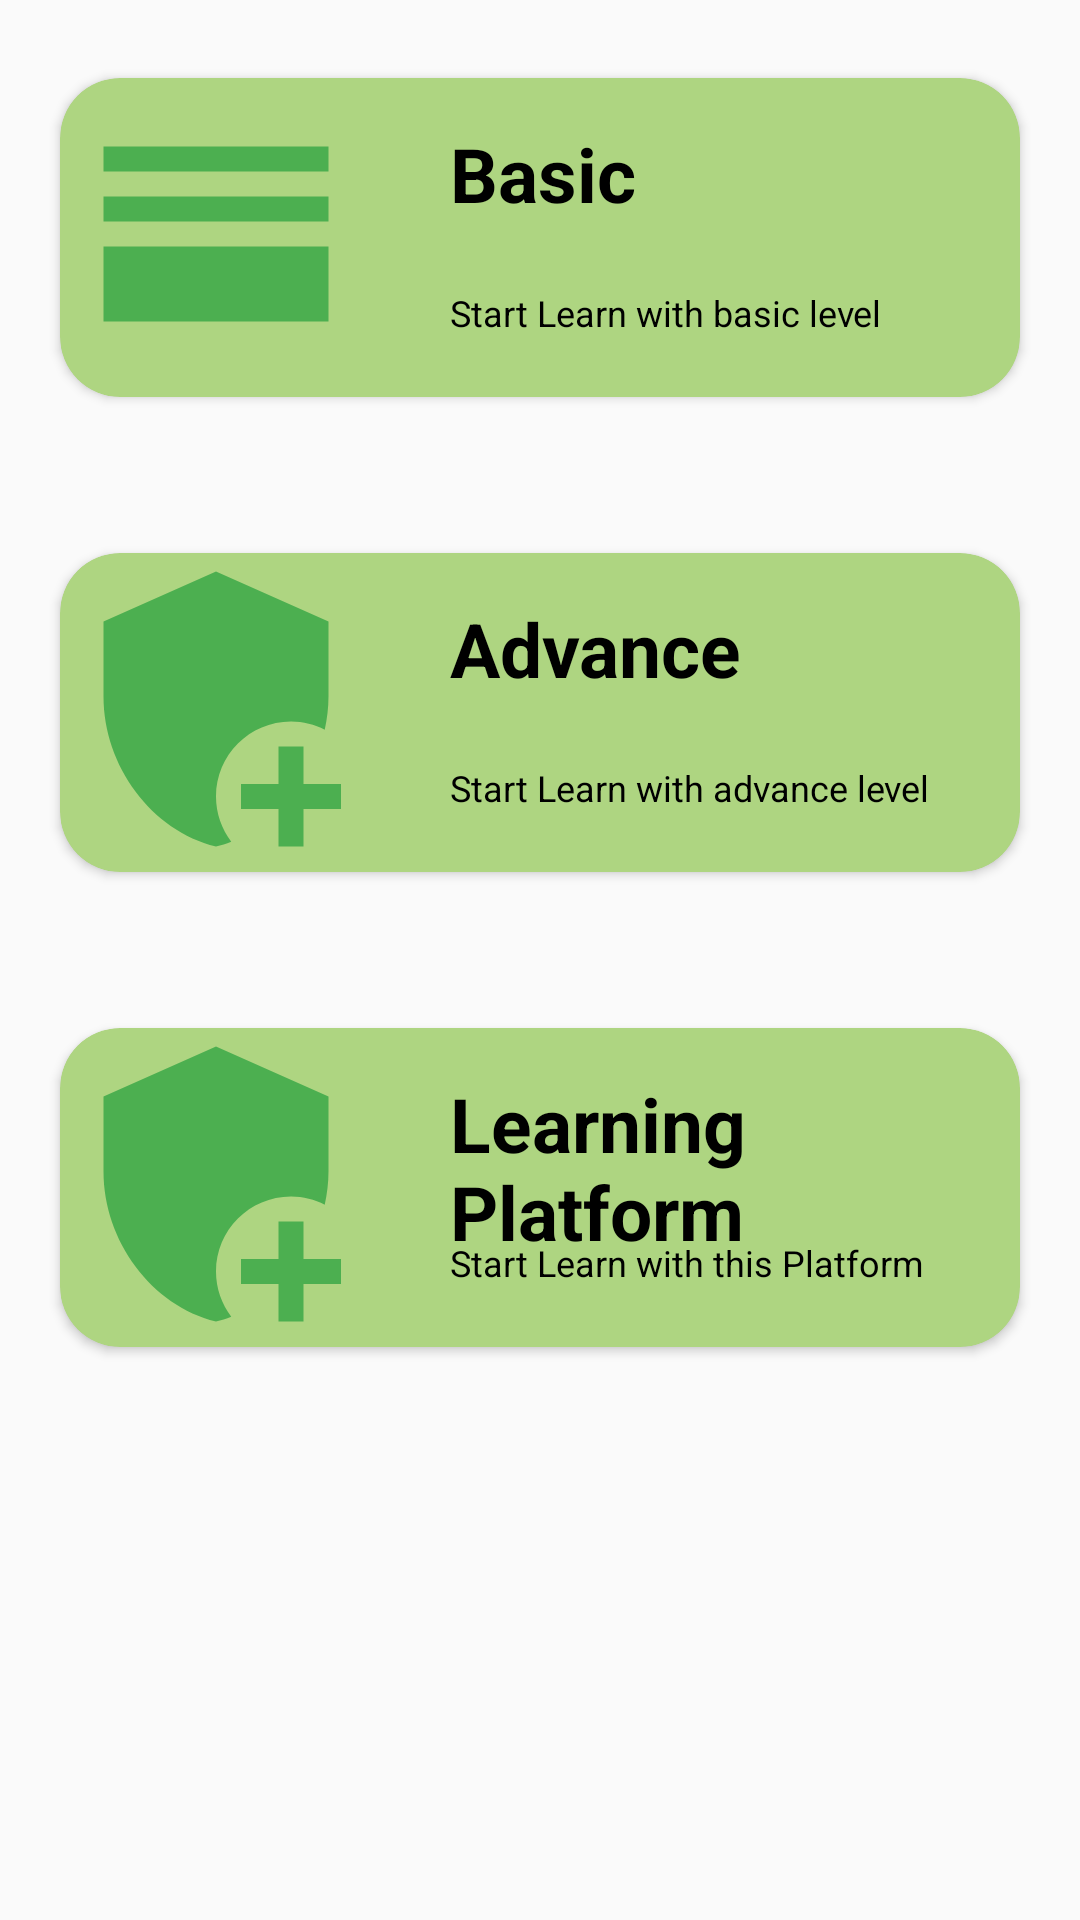

Named icons in this screenshot (1080×1920) and their centers, (x,y):
add moderator: (222,709), (222,1184)
